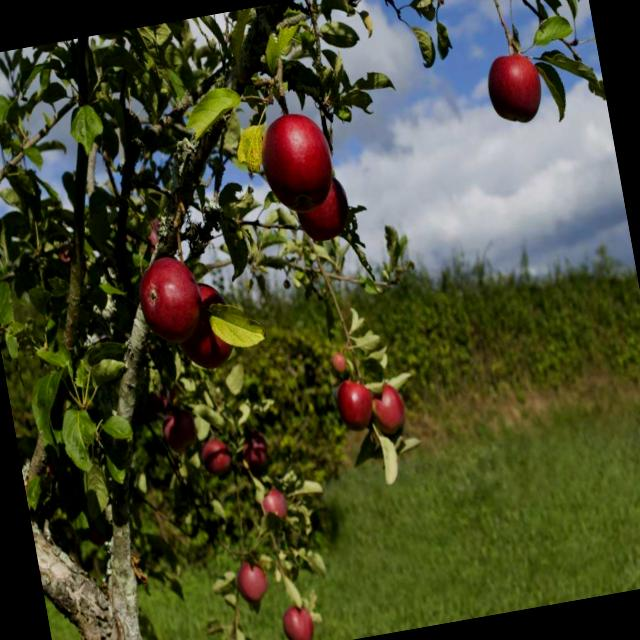alpple: (254, 104, 340, 218), (133, 254, 207, 350), (482, 41, 548, 130)
